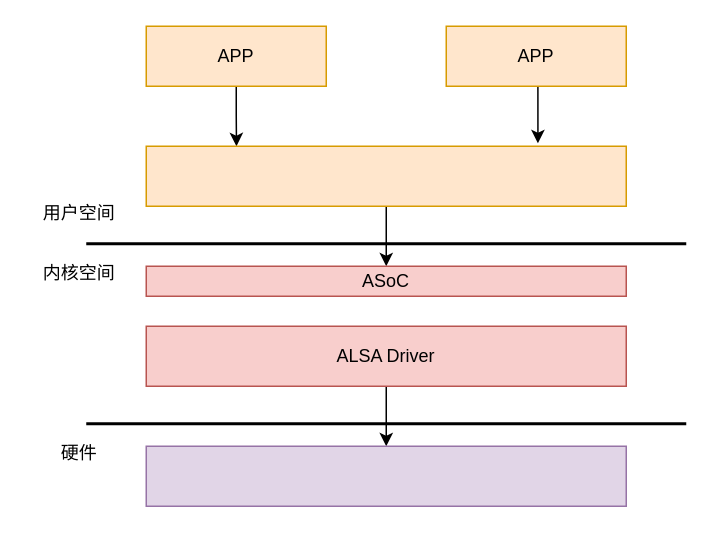
This 713x533 diagram has some shape labels left out. The centre of each missing label's shape, as x and y in pixels:
ALSA-LIB: (x=385, y=175)
Hardware: (x=385, y=475)
